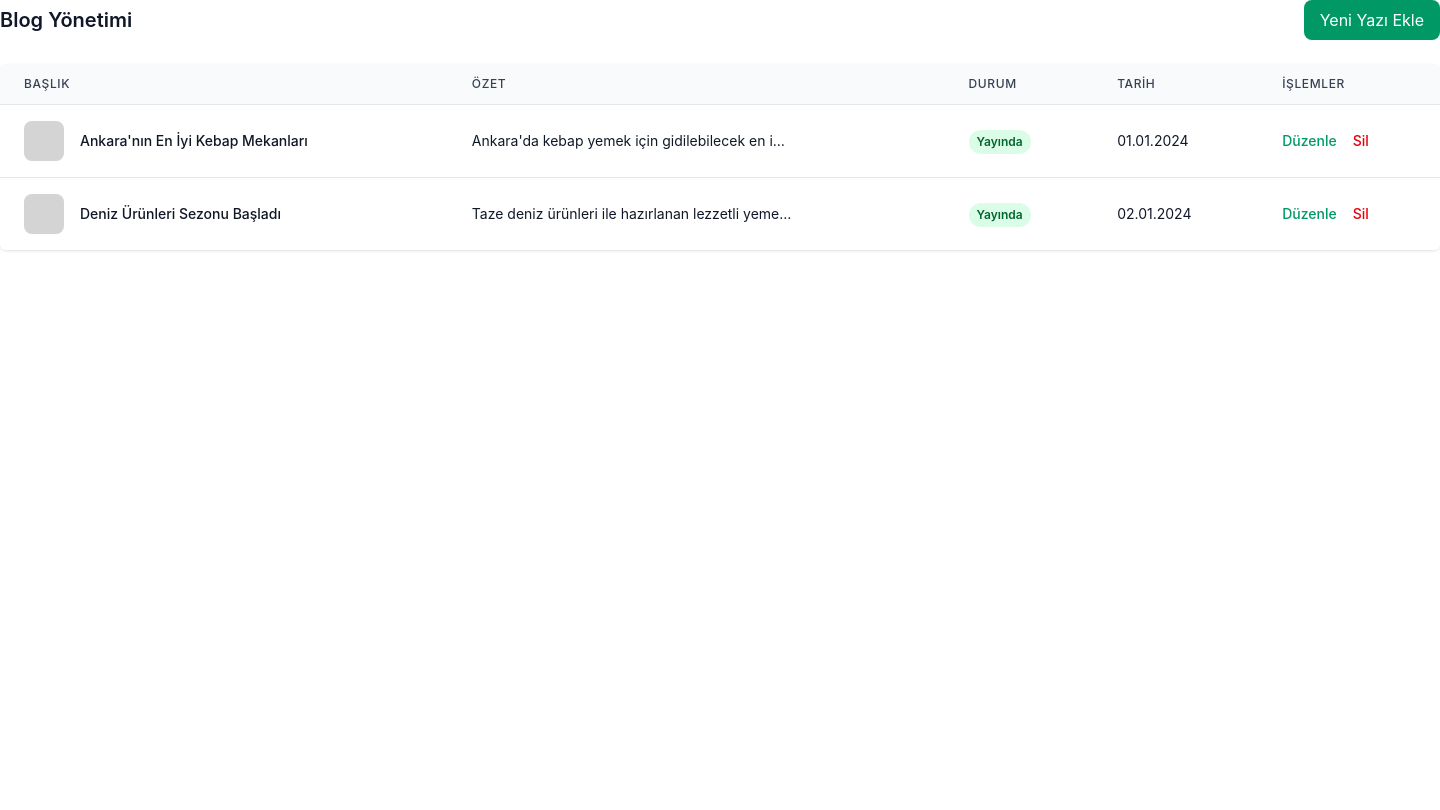
Test case: Admin CRUD Integration Tests › Blog Management › should handle blog post deletion
The width and height of the screenshot is (1440, 810).
Click the button "Sil" in the row of "Ankara'nın En İyi Kebap Mekanları". click: point(1361, 141)
box: 1353,131 -> 1369,151
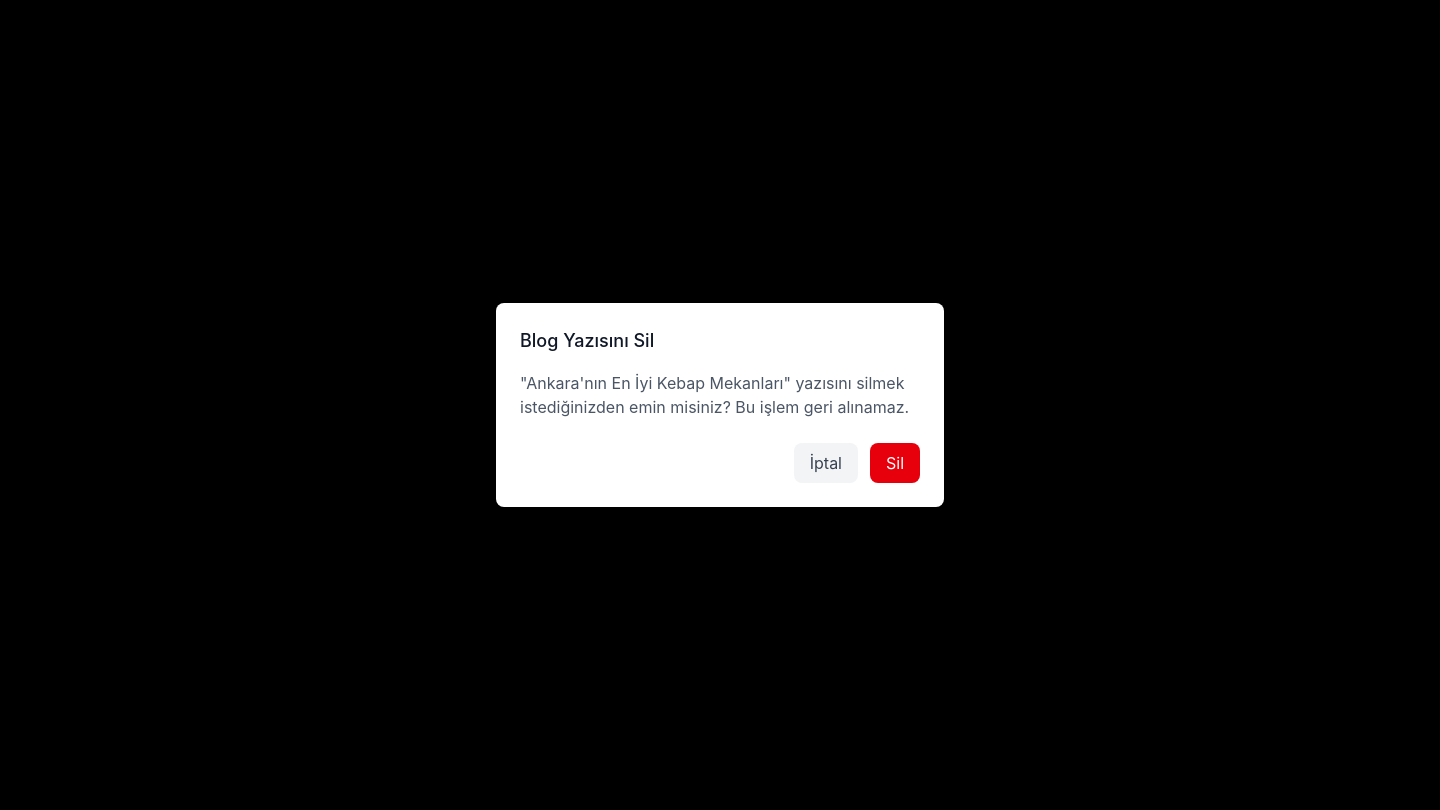
Expected: the text "silmek istediğinizden emin misiniz" is shown, 520,373 -> 909,417
